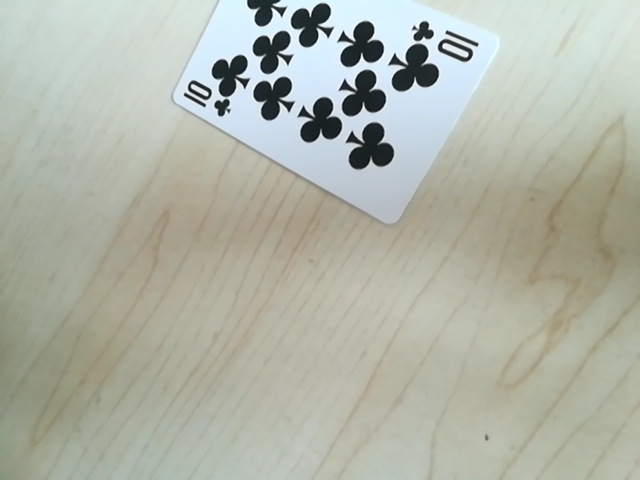mh 10: (412, 21, 488, 59), (178, 73, 236, 119)
